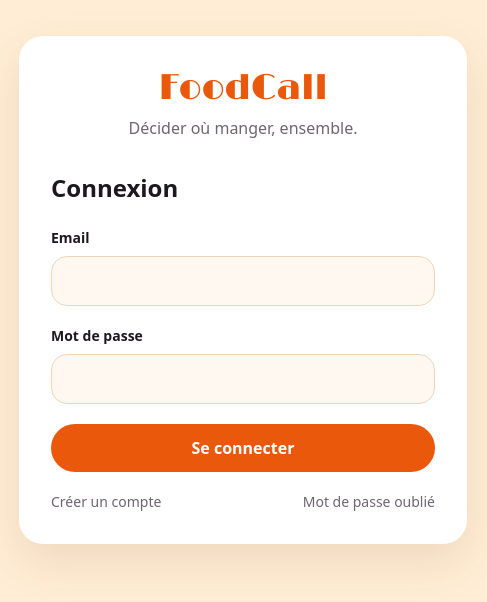
it: LoginPage › renders "Connexion impossible avec ces identifiants." for 401
In the field labelled "Email": (243, 281) [51, 256, 435, 306], type "wrong@example.com"
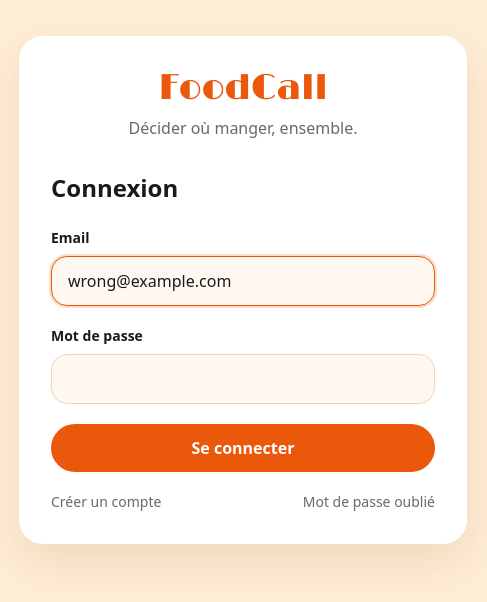
In the password field labelled "Mot de passe": (243, 379) [51, 354, 435, 404], type "wrongpass"
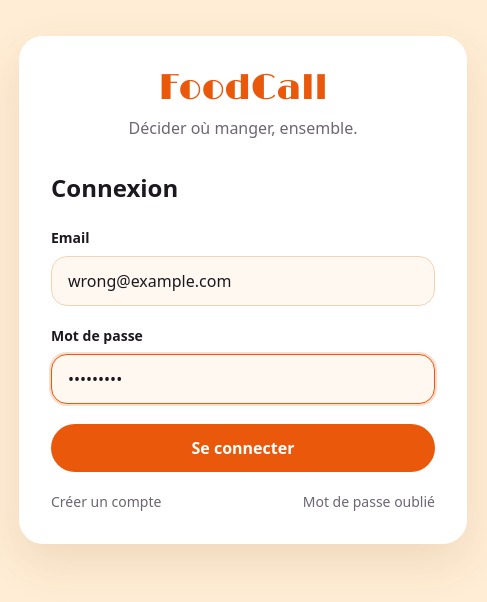
Click the button "Se connecter": (243, 448) [51, 424, 435, 472]
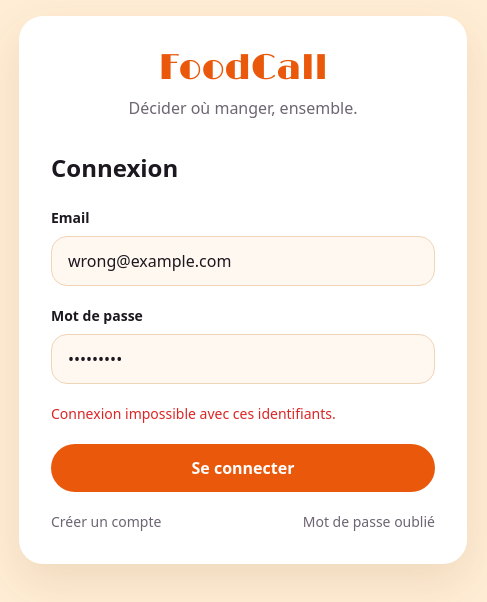
Result: the message reads "Connexion impossible avec ces identifiants." at [51, 404, 336, 423]
